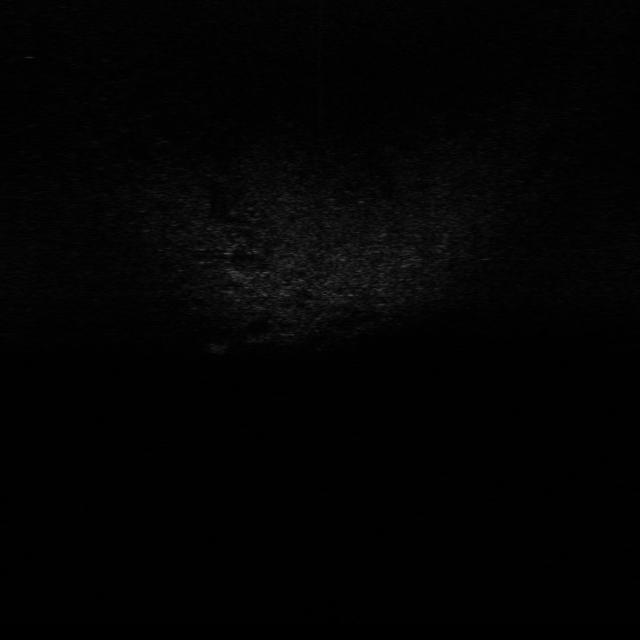cube: (202, 335, 233, 357)
